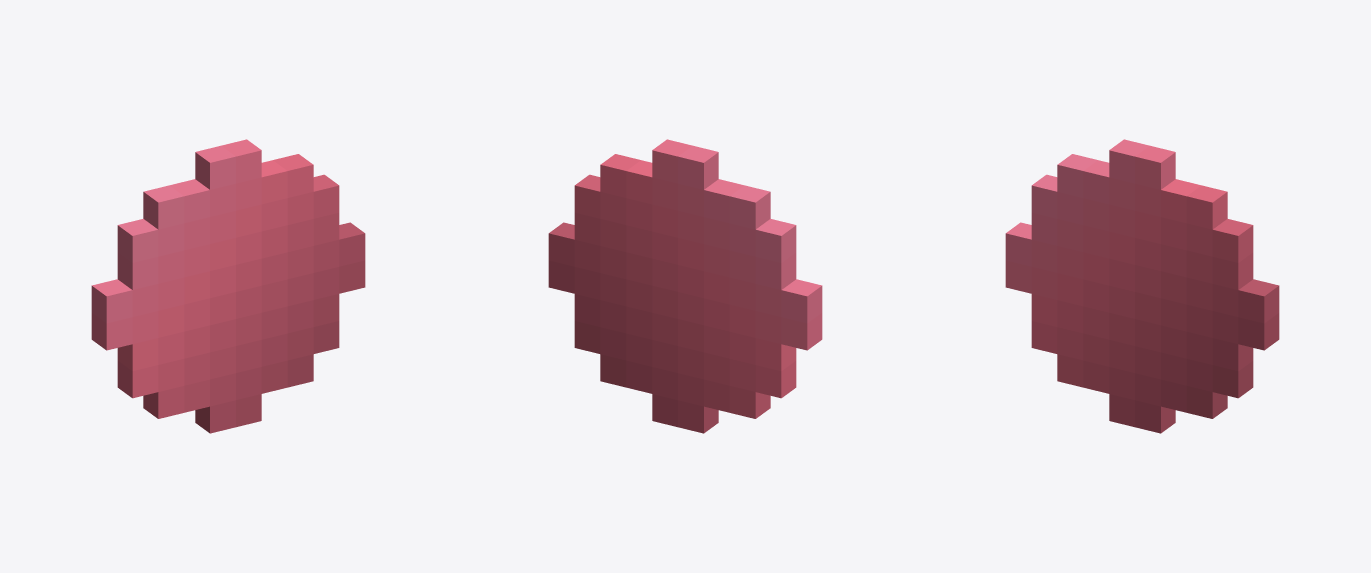
Rendered from torch.glb.
3 renders of one model, left to right at view 1: azimuth 30°, elevation 25°; view 2: azimuth 150°, elevation 25°; view 3: azimuth 330°, elevation 25°, orthographic.
Visible parts, largest first — view 1: torch__mesh; view 2: torch__mesh; view 3: torch__mesh.
Boxes of the visible parts, left/top/right/bottom form: torch__mesh: left=91, top=139, right=365, bottom=433; torch__mesh: left=548, top=139, right=822, bottom=433; torch__mesh: left=1005, top=139, right=1279, bottom=433.
Bounding box in the file's own units: 1 × 1 × 0.0625.
Materials: 1 (1 with a texture image).
